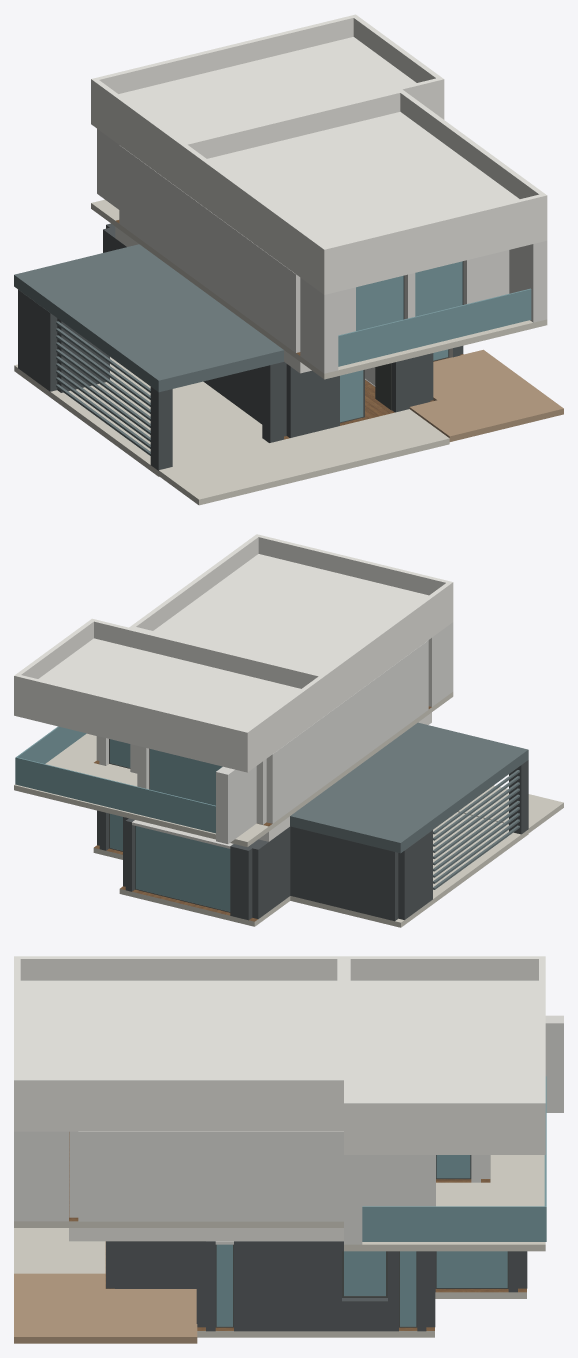
The picture shows the model from 3 angles, top to bottom: view 1: azimuth 30°, elevation 25°; view 2: azimuth 150°, elevation 25°; view 3: azimuth 270°, elevation 25°; orthographic projection. The views are drawn at different scales.
Visible parts, largest first — view 1: main-roof-1, carport-roof, main-roof-0, upper/east/end, carport-apron, ground/slab/2, balcony-glass-0, parapet-0-3, front-deck, parapet-1-2, parapet-1-3, parapet-1-1 (+23 smaller); view 2: main-roof-1, main-roof-0, carport-roof, upper/east/end, ground/store-rear/end, ground/living-rear/glass-0, balcony-glass-2, parapet-0-3, parapet-0-2, parapet-1-2, ground/slab/2, ground/east/end (+21 smaller); view 3: main-roof-1, main-roof-0, upper/west/end, ground/dining-east/south, parapet-1-0, parapet-1-1, balcony-glass-1, front-deck, front-deck-side, parapet-0-0, balcony-frame-0, parapet-0-1 (+28 smaller).
Boxes of the visible parts, x1,y1,x2,y2 form: main-roof-1: [179, 111, 547, 294]; carport-roof: [14, 244, 283, 392]; main-roof-0: [91, 37, 444, 188]; upper/east/end: [119, 145, 300, 352]; carport-apron: [158, 409, 449, 505]; ground/slab/2: [14, 357, 268, 476]; balcony-glass-0: [338, 288, 531, 366]; parapet-0-3: [91, 15, 356, 99]; front-deck: [409, 379, 563, 441]; parapet-1-2: [321, 193, 547, 268]; parapet-1-3: [179, 89, 401, 164]; parapet-1-1: [180, 143, 329, 268]; main-roof-1: [153, 554, 453, 714]; main-roof-0: [14, 638, 325, 772]; carport-roof: [290, 722, 528, 853]; upper/east/end: [266, 640, 428, 823]; ground/store-rear/end: [290, 826, 398, 921]; ground/living-rear/glass-0: [135, 826, 230, 911]; balcony-glass-2: [15, 757, 215, 833]; parapet-0-3: [14, 675, 249, 749]; parapet-0-2: [94, 619, 325, 693]; parapet-1-2: [255, 534, 453, 595]; ground/slab/2: [290, 812, 528, 927]; ground/east/end: [248, 826, 290, 919]; main-roof-1: [14, 980, 343, 1131]; main-roof-0: [344, 980, 545, 1154]; upper/west/end: [78, 1131, 426, 1221]; ground/dining-east/south: [234, 1241, 341, 1331]; parapet-1-0: [14, 1077, 343, 1101]; parapet-1-1: [14, 956, 343, 980]; balcony-glass-1: [362, 1206, 546, 1241]; front-deck: [14, 1273, 105, 1343]; front-deck-side: [105, 1289, 197, 1343]; parapet-0-0: [344, 1100, 545, 1124]; balcony-frame-0: [14, 1131, 68, 1221]; parapet-0-1: [344, 956, 545, 980].
Bounding box in the file's own units: 14.01 × 7.75 × 15.
Materials: 69 (2 with a texture image).
